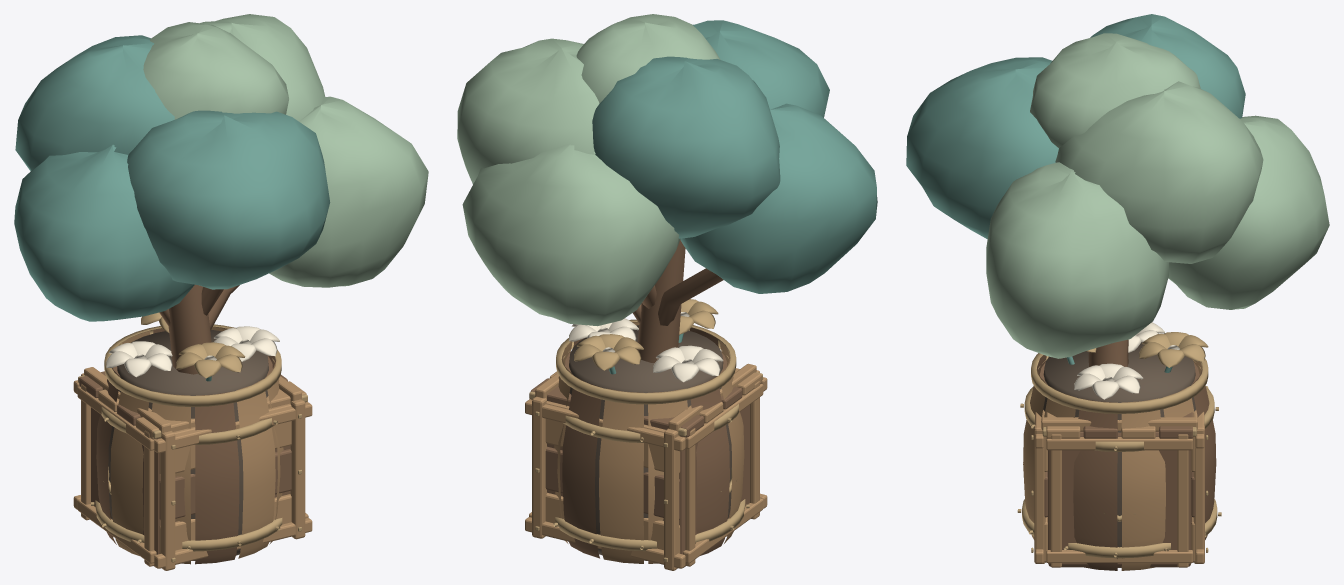
File: world09-dock-props-v1.glb
3 views of the same model, side by side, from view 1: azimuth 30°, elevation 25°; view 2: azimuth 150°, elevation 25°; view 3: azimuth 270°, elevation 25° (orthographic).
Visible parts, largest first — view 1: dock-tree-deep-leaf, dock-tree-sage-leaf, dock-crate-warm-oak, dock-barrel-warm-oak, dock-barrel-walnut-wood, dock-barrel-aged-brass, dock-barrel-dark-joinery, dock-crate-walnut-wood, dock-planter-flower-ivory, dock-tree-walnut-wood, dock-planter-aged-brass; view 2: dock-tree-deep-leaf, dock-tree-sage-leaf, dock-crate-warm-oak, dock-barrel-warm-oak, dock-barrel-walnut-wood, dock-barrel-aged-brass, dock-barrel-dark-joinery, dock-tree-walnut-wood, dock-crate-walnut-wood, dock-planter-flower-ivory, dock-planter-aged-brass; view 3: dock-tree-sage-leaf, dock-tree-deep-leaf, dock-crate-warm-oak, dock-barrel-warm-oak, dock-barrel-walnut-wood, dock-barrel-aged-brass, dock-crate-walnut-wood, dock-barrel-dark-joinery, dock-planter-flower-ivory, dock-planter-aged-brass, dock-tree-walnut-wood.
Boxes of the visible parts, left/top/right/bottom form: dock-tree-deep-leaf: left=14, top=35, right=330, bottom=321; dock-tree-sage-leaf: left=143, top=14, right=428, bottom=287; dock-crate-warm-oak: left=73, top=367, right=312, bottom=570; dock-barrel-warm-oak: left=110, top=327, right=283, bottom=564; dock-barrel-walnut-wood: left=96, top=328, right=275, bottom=564; dock-barrel-aged-brass: left=91, top=324, right=282, bottom=551; dock-barrel-dark-joinery: left=108, top=329, right=268, bottom=560; dock-crate-walnut-wood: left=79, top=371, right=291, bottom=567; dock-planter-flower-ivory: left=106, top=326, right=279, bottom=377; dock-tree-walnut-wood: left=159, top=284, right=239, bottom=374; dock-planter-aged-brass: left=141, top=312, right=245, bottom=378; dock-tree-deep-leaf: left=592, top=20, right=877, bottom=293; dock-tree-sage-leaf: left=457, top=14, right=720, bottom=326; dock-crate-warm-oak: left=525, top=363, right=767, bottom=570; dock-barrel-warm-oak: left=554, top=322, right=744, bottom=563; dock-barrel-walnut-wood: left=562, top=327, right=729, bottom=558; dock-barrel-aged-brass: left=553, top=319, right=749, bottom=551; dock-barrel-dark-joinery: left=569, top=325, right=731, bottom=560; dock-tree-walnut-wood: left=633, top=240, right=723, bottom=362; dock-crate-walnut-wood: left=530, top=378, right=749, bottom=567; dock-planter-flower-ivory: left=569, top=312, right=723, bottom=382; dock-planter-aged-brass: left=574, top=299, right=718, bottom=370; dock-tree-sage-leaf: left=986, top=33, right=1329, bottom=358; dock-tree-deep-leaf: left=906, top=14, right=1245, bottom=239; dock-crate-warm-oak: left=1034, top=359, right=1204, bottom=567; dock-barrel-warm-oak: left=1023, top=356, right=1216, bottom=570; dock-barrel-walnut-wood: left=1023, top=355, right=1216, bottom=570; dock-barrel-aged-brass: left=1017, top=353, right=1221, bottom=558; dock-crate-walnut-wood: left=1044, top=412, right=1195, bottom=567; dock-barrel-dark-joinery: left=1043, top=342, right=1196, bottom=567; dock-planter-flower-ivory: left=1074, top=322, right=1179, bottom=399; dock-planter-aged-brass: left=1061, top=332, right=1208, bottom=367; dock-tree-walnut-wood: left=1088, top=339, right=1128, bottom=366.
Bounding box in the file's own units: 3.12 × 3.85 × 2.99.
